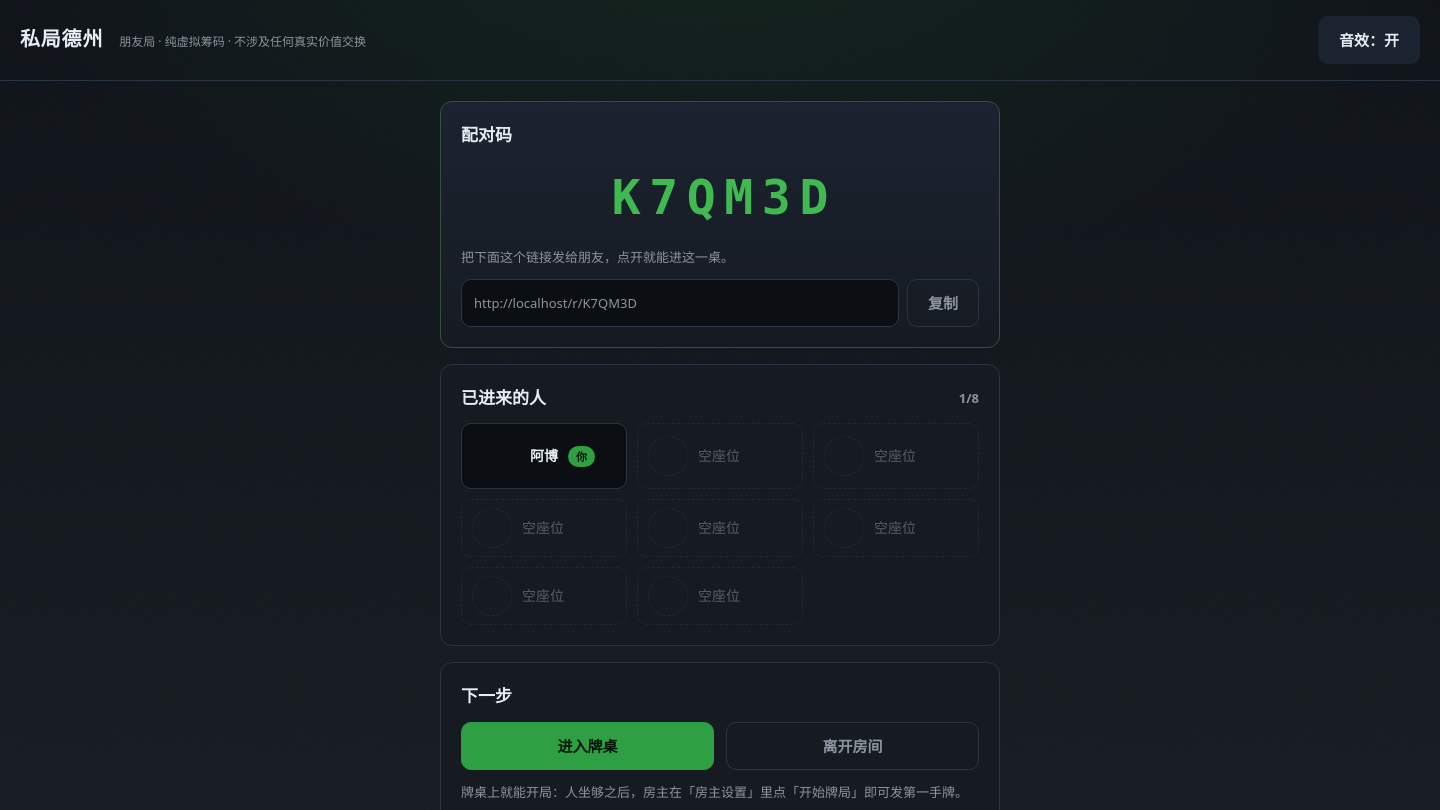
Test case: 等待室 · 分享与离开 › 离开房间会通知服务端（consented），然后回到大厅
Expected: the link "进入牌桌" is shown, left=461, top=722, right=714, bottom=770
Step 1. Click the button "离开房间" → (852,746), box left=726, top=722, right=979, bottom=770
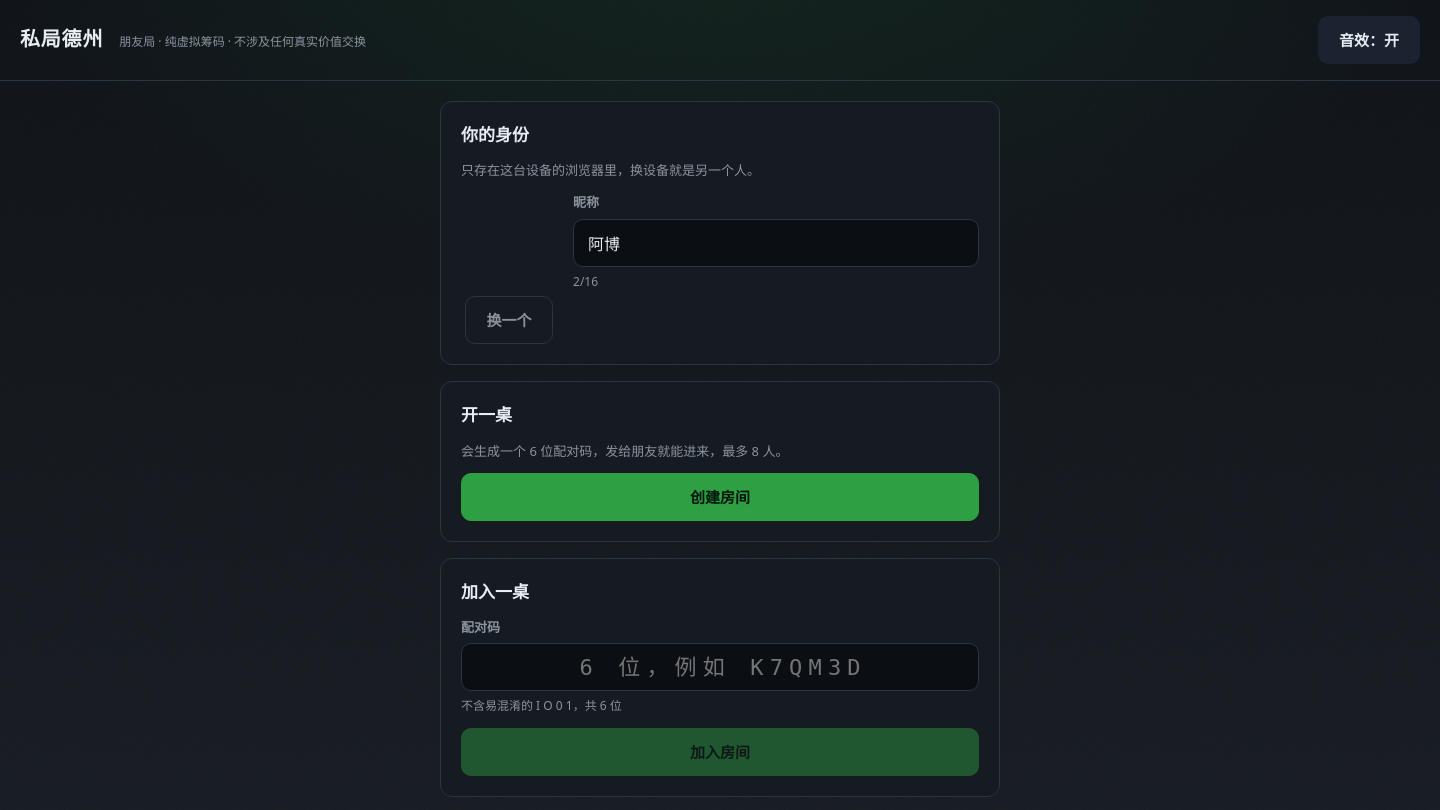
Expected: the button "加入房间" is shown, left=461, top=728, right=979, bottom=776
